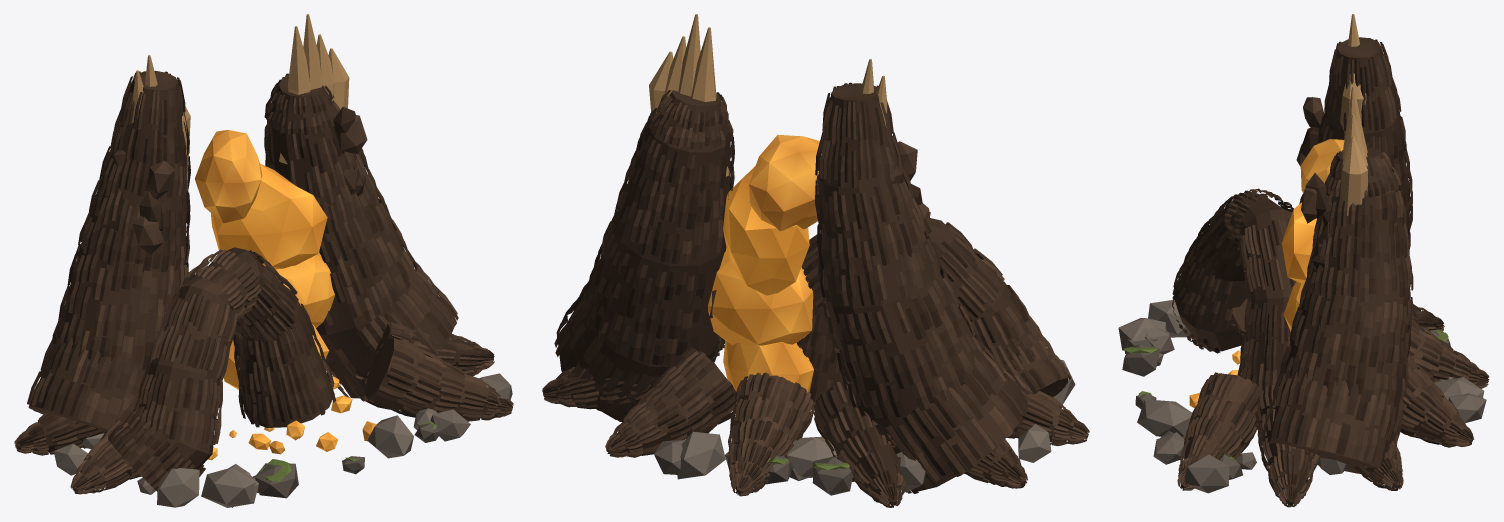
Rendered from amber-seam.glb.
3 renders of one model, left to right at view 1: azimuth 30°, elevation 25°; view 2: azimuth 150°, elevation 25°; view 3: azimuth 270°, elevation 25°, orthographic. The views are drawn at different scales.
Parts seen in each view (by area): view 1: Rootbound Hall · evaluated preview mesh; view 2: Rootbound Hall · evaluated preview mesh; view 3: Rootbound Hall · evaluated preview mesh.
Boxes of the visible parts, x1,y1,x2,y2 form: Rootbound Hall · evaluated preview mesh: (14,14,513,507); Rootbound Hall · evaluated preview mesh: (542,14,1089,507); Rootbound Hall · evaluated preview mesh: (1118,14,1489,507).
Bounding box in the file's own units: 7.29 × 5.93 × 5.39.
